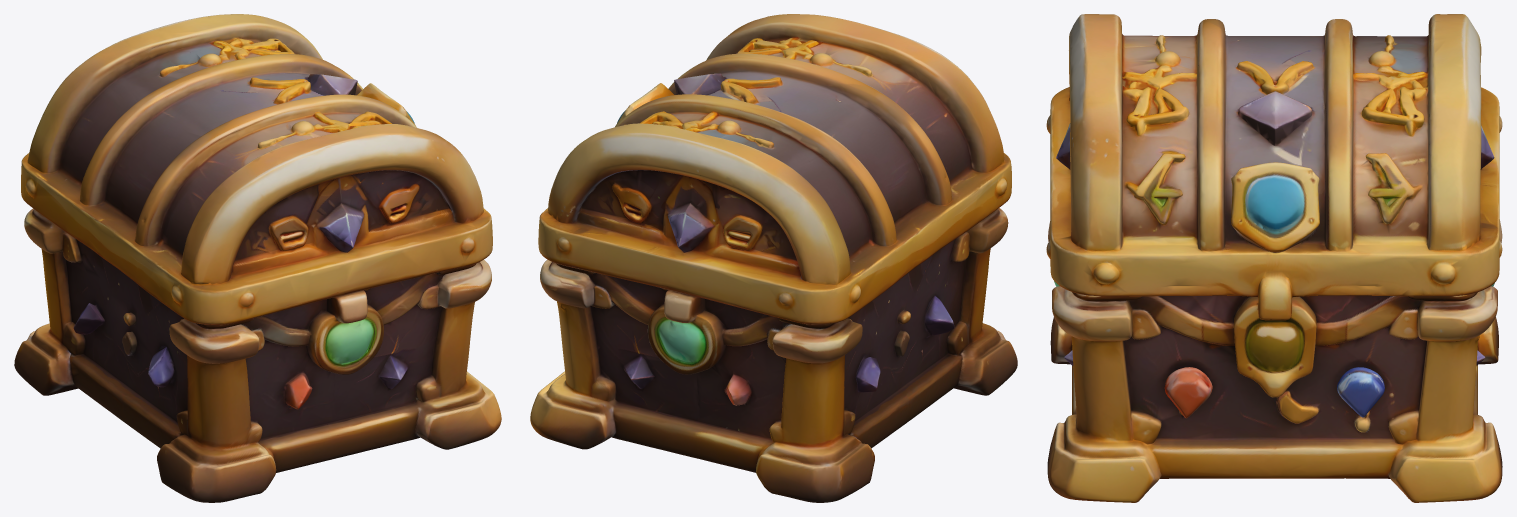
File: prop-chest-golden.glb
3 views of the same model, side by side, from view 1: azimuth 30°, elevation 25°; view 2: azimuth 150°, elevation 25°; view 3: azimuth 270°, elevation 25° (orthographic). The views are drawn at different scales.
Parts seen in each view (by area): view 1: tripo_node_afdc9f3f-8e97-4f18-b338-9f12c09537c1; view 2: tripo_node_afdc9f3f-8e97-4f18-b338-9f12c09537c1; view 3: tripo_node_afdc9f3f-8e97-4f18-b338-9f12c09537c1.
Part boxes in pixels (bbox=[...]): tripo_node_afdc9f3f-8e97-4f18-b338-9f12c09537c1: bbox=[14, 14, 501, 502]; tripo_node_afdc9f3f-8e97-4f18-b338-9f12c09537c1: bbox=[530, 14, 1017, 502]; tripo_node_afdc9f3f-8e97-4f18-b338-9f12c09537c1: bbox=[1046, 14, 1502, 502].
Bounding box in the file's own units: 1.25 × 1.2 × 1.34.
1 material, 1 textured.
